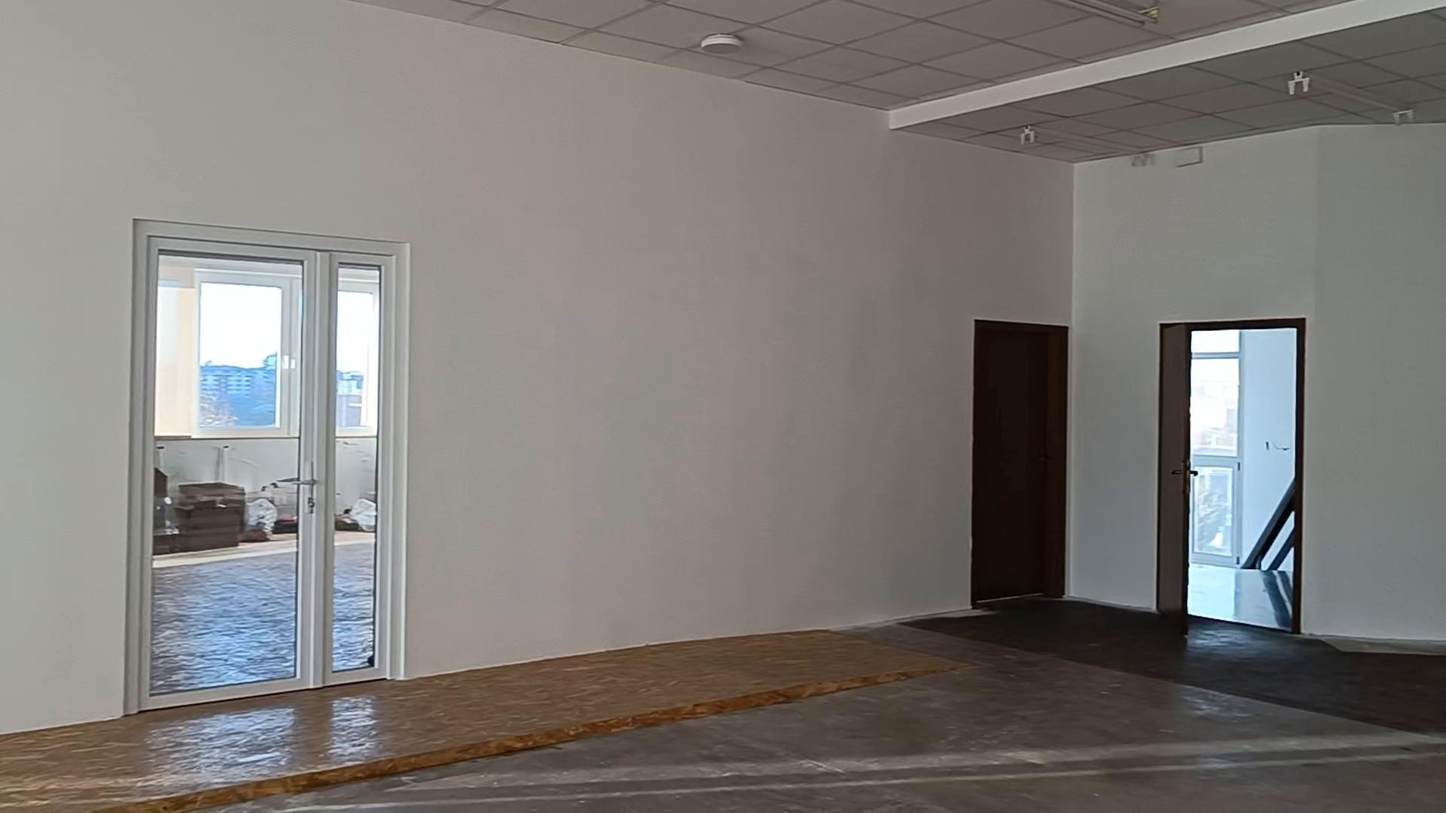ceiling: (356, 0, 1445, 161)
floor: (0, 601, 1445, 812)
wall: (0, 0, 1445, 732)
